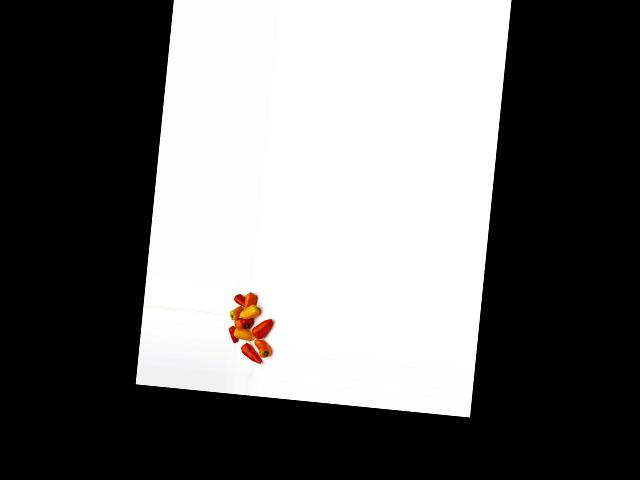bell_pepper: (226, 324, 237, 345)
